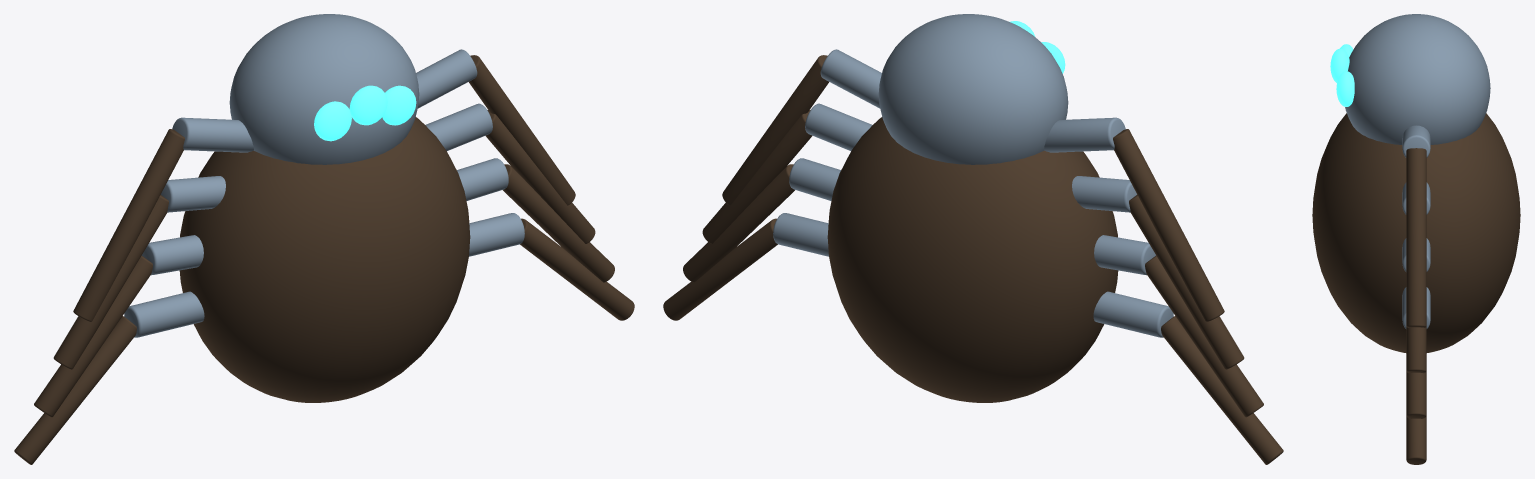
File: arachnid_v7.glb
3 renders of one model, left to right at view 1: azimuth 30°, elevation 25°; view 2: azimuth 150°, elevation 25°; view 3: azimuth 270°, elevation 25°, orthographic. The views are drawn at different scales.
Visible parts, largest first — view 1: TARANTULA_ABDOMEN_SECONDARY, TARANTULA_HEAD_PRIMARY, TARANTULA_LOWER_SECONDARY, TARANTULA_LOWER_SECONDARY.006, TARANTULA_LOWER_SECONDARY.004, TARANTULA_LOWER_SECONDARY.001, TARANTULA_LOWER_SECONDARY.007, TARANTULA_LOWER_SECONDARY.005, TARANTULA_LOWER_SECONDARY.002, TARANTULA_LOWER_SECONDARY.003, TARANTULA_UPPER_PRIMARY.006, TARANTULA_UPPER_PRIMARY (+9 smaller); view 2: TARANTULA_ABDOMEN_SECONDARY, TARANTULA_HEAD_PRIMARY, TARANTULA_LOWER_SECONDARY, TARANTULA_LOWER_SECONDARY.006, TARANTULA_LOWER_SECONDARY.004, TARANTULA_LOWER_SECONDARY.001, TARANTULA_LOWER_SECONDARY.007, TARANTULA_LOWER_SECONDARY.005, TARANTULA_LOWER_SECONDARY.002, TARANTULA_LOWER_SECONDARY.003, TARANTULA_UPPER_PRIMARY.006, TARANTULA_UPPER_PRIMARY (+6 smaller); view 3: TARANTULA_ABDOMEN_SECONDARY, TARANTULA_HEAD_PRIMARY, TARANTULA_LOWER_SECONDARY.001, TARANTULA_LOWER_SECONDARY.005, TARANTULA_LOWER_SECONDARY.007, TARANTULA_LOWER_SECONDARY.003, TARANTULA_UPPER_PRIMARY.001, EYE_EMISSIVE.002, EYE_EMISSIVE.001, TARANTULA_UPPER_PRIMARY.007, TARANTULA_UPPER_PRIMARY.005, TARANTULA_UPPER_PRIMARY.003.
Boxes of the visible parts, <box> form: TARANTULA_ABDOMEN_SECONDARY: <box>179,117,470,402</box>; TARANTULA_HEAD_PRIMARY: <box>229,14,419,164</box>; TARANTULA_LOWER_SECONDARY: <box>73,129,184,321</box>; TARANTULA_LOWER_SECONDARY.006: <box>14,316,136,464</box>; TARANTULA_LOWER_SECONDARY.004: <box>34,255,152,417</box>; TARANTULA_LOWER_SECONDARY.001: <box>469,55,575,205</box>; TARANTULA_LOWER_SECONDARY.007: <box>520,218,634,320</box>; TARANTULA_LOWER_SECONDARY.005: <box>503,164,614,282</box>; TARANTULA_LOWER_SECONDARY.002: <box>53,195,168,369</box>; TARANTULA_LOWER_SECONDARY.003: <box>485,110,595,243</box>; TARANTULA_UPPER_PRIMARY.006: <box>124,291,204,337</box>; TARANTULA_UPPER_PRIMARY: <box>172,117,253,152</box>; TARANTULA_ABDOMEN_SECONDARY: <box>827,117,1118,402</box>; TARANTULA_HEAD_PRIMARY: <box>878,14,1068,164</box>; TARANTULA_LOWER_SECONDARY: <box>1113,129,1224,321</box>; TARANTULA_LOWER_SECONDARY.006: <box>1161,316,1283,464</box>; TARANTULA_LOWER_SECONDARY.004: <box>1145,255,1263,417</box>; TARANTULA_LOWER_SECONDARY.001: <box>722,55,828,205</box>; TARANTULA_LOWER_SECONDARY.007: <box>663,218,777,320</box>; TARANTULA_LOWER_SECONDARY.005: <box>683,164,794,282</box>; TARANTULA_LOWER_SECONDARY.002: <box>1129,195,1244,369</box>; TARANTULA_LOWER_SECONDARY.003: <box>702,110,812,243</box>; TARANTULA_UPPER_PRIMARY.006: <box>1093,291,1173,337</box>; TARANTULA_UPPER_PRIMARY: <box>1044,117,1125,152</box>; TARANTULA_ABDOMEN_SECONDARY: <box>1312,113,1520,352</box>; TARANTULA_HEAD_PRIMARY: <box>1345,14,1490,144</box>; TARANTULA_LOWER_SECONDARY.001: <box>1406,148,1426,327</box>; TARANTULA_LOWER_SECONDARY.005: <box>1406,371,1426,418</box>; TARANTULA_LOWER_SECONDARY.007: <box>1406,416,1426,464</box>; TARANTULA_LOWER_SECONDARY.003: <box>1406,326,1426,373</box>; TARANTULA_UPPER_PRIMARY.001: <box>1402,125,1430,157</box>; EYE_EMISSIVE.002: <box>1336,71,1354,106</box>; EYE_EMISSIVE.001: <box>1330,48,1349,82</box>; TARANTULA_UPPER_PRIMARY.007: <box>1402,287,1430,328</box>; TARANTULA_UPPER_PRIMARY.005: <box>1402,238,1430,271</box>; TARANTULA_UPPER_PRIMARY.003: <box>1402,182,1430,214</box>.
Bounding box in the file's own units: 3.06 × 1.76 × 1.04.
